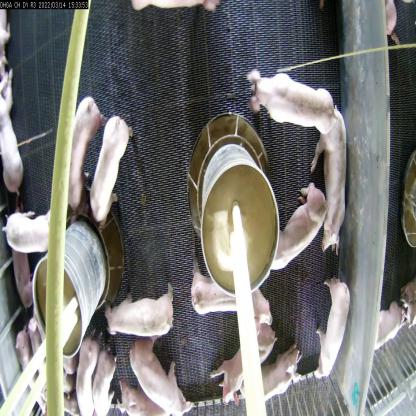Pig: (94, 99, 144, 245), (244, 49, 334, 128), (314, 111, 349, 247), (191, 270, 268, 330), (101, 287, 176, 346), (273, 186, 325, 269), (135, 339, 192, 413), (55, 88, 88, 210), (237, 342, 302, 400), (217, 328, 270, 393), (319, 271, 346, 375), (14, 209, 64, 265), (88, 337, 118, 411), (74, 333, 98, 408)
